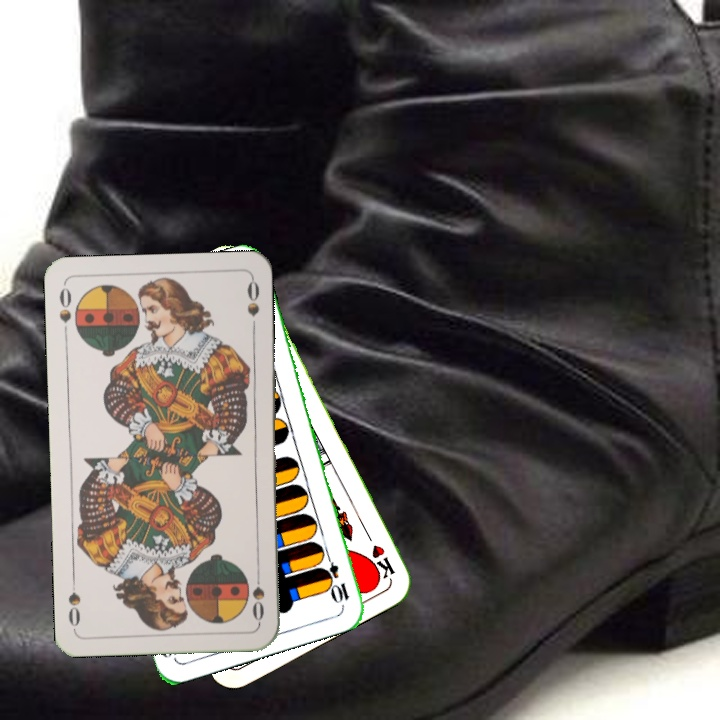E10: (319, 547, 352, 606)
HK: (360, 525, 398, 582)
SO: (248, 566, 268, 625), (55, 283, 74, 326)
